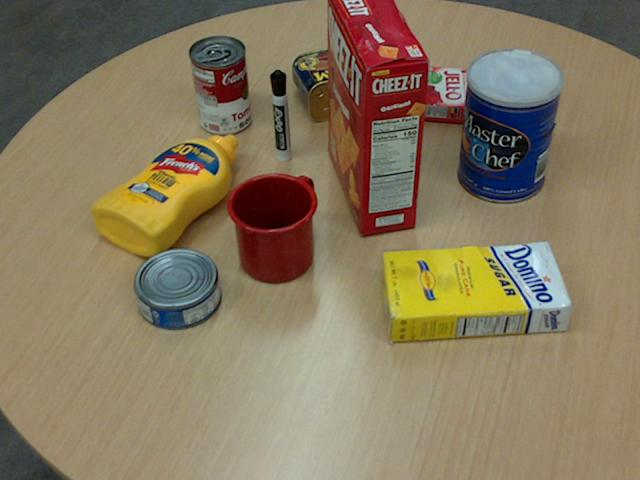cracker_box: (327, 0, 428, 233)
gelatin_box: (407, 64, 470, 122)
large_marker: (269, 69, 289, 162)
master_chef_can: (457, 49, 562, 204)
mug: (225, 172, 316, 282)
mustard_bottle: (90, 134, 237, 255)
potted_meat_can: (292, 43, 385, 120)
sugar_box: (378, 241, 572, 344)
tomato_soup_can: (189, 33, 250, 133)
tuna_fish_can: (132, 248, 220, 329)
